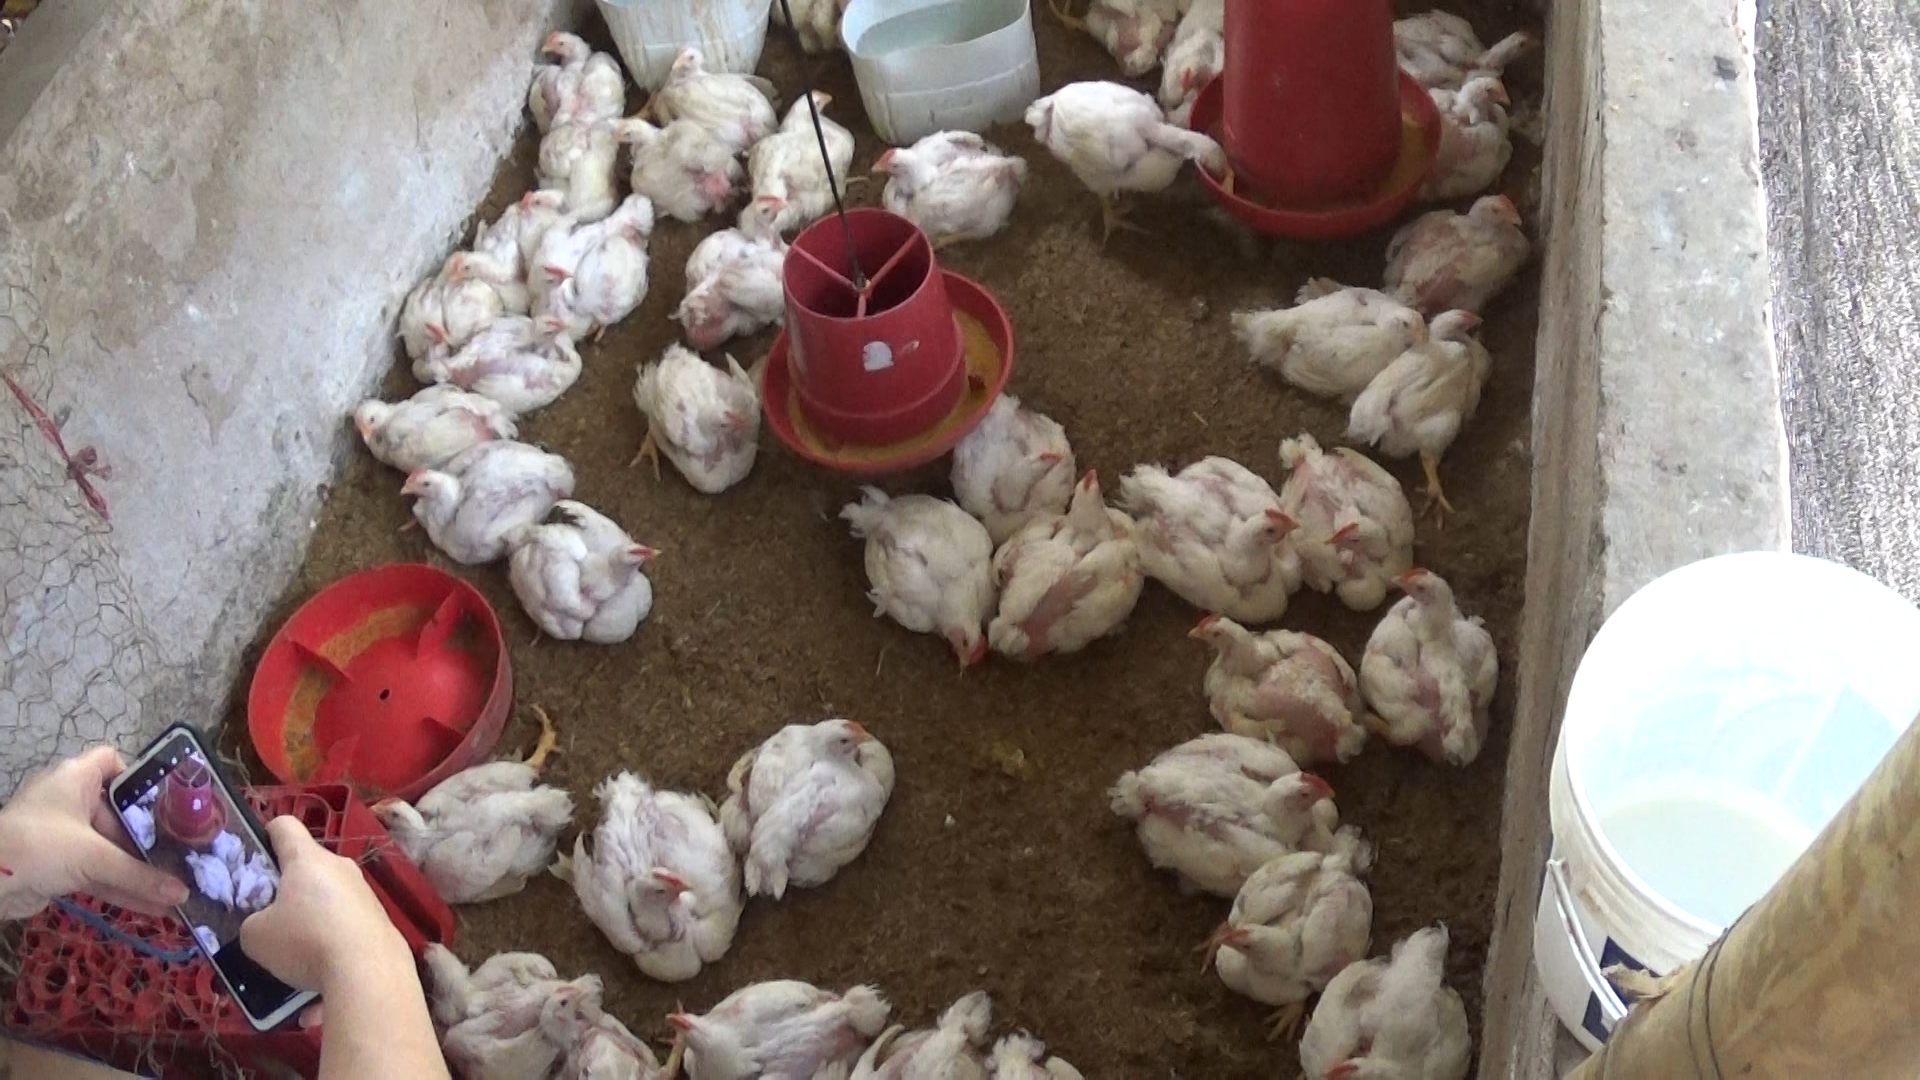Pollos: (363, 742, 585, 907), (1112, 728, 1341, 886), (725, 698, 905, 898), (571, 766, 736, 982), (1015, 82, 1230, 239), (1124, 456, 1316, 628), (1178, 601, 1377, 748), (1361, 564, 1505, 760), (847, 491, 1000, 674), (1296, 920, 1480, 1072), (1205, 847, 1373, 1009), (1247, 262, 1440, 397), (1286, 425, 1420, 615), (997, 469, 1137, 649), (662, 975, 881, 1080), (501, 502, 666, 640), (861, 125, 1030, 257), (397, 443, 564, 567), (625, 336, 760, 487), (1364, 314, 1497, 465), (1386, 194, 1534, 314), (535, 185, 650, 330), (957, 377, 1067, 529), (527, 967, 671, 1080), (680, 187, 800, 323), (435, 301, 589, 404), (607, 105, 745, 218), (342, 382, 510, 472), (746, 79, 855, 218), (1382, 11, 1557, 92), (653, 45, 777, 156), (513, 16, 630, 131), (421, 200, 560, 291), (394, 251, 495, 377), (1139, 0, 1234, 113), (1433, 71, 1536, 171), (513, 127, 621, 218)
